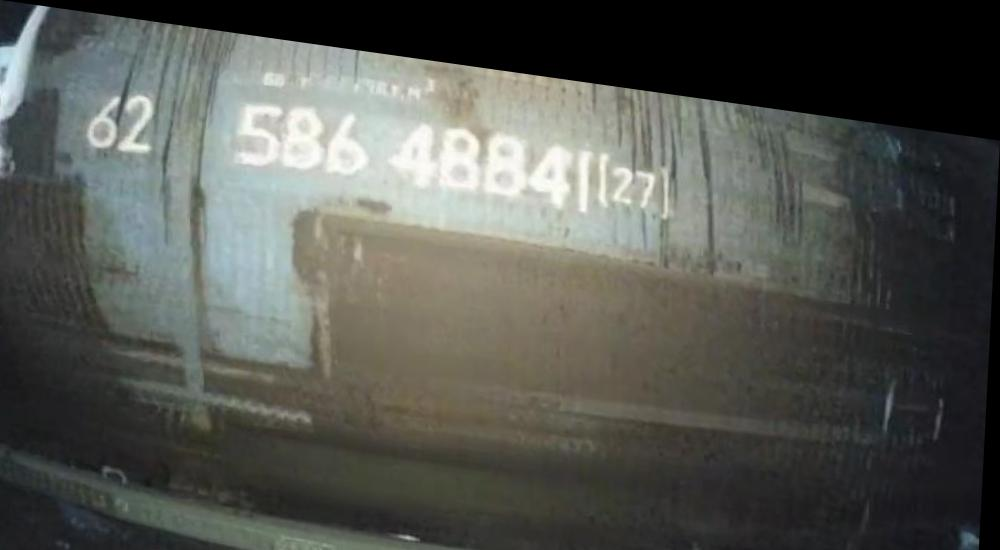Wagon-number: (234, 90, 597, 200)
